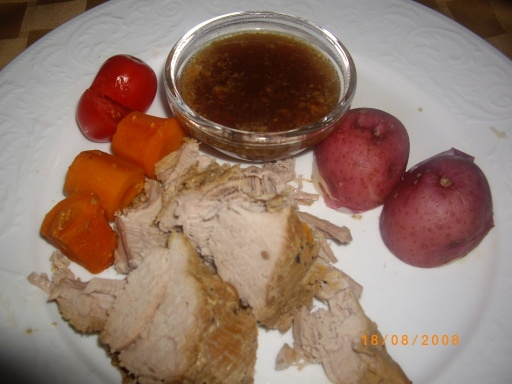background: (22, 19, 395, 230)
